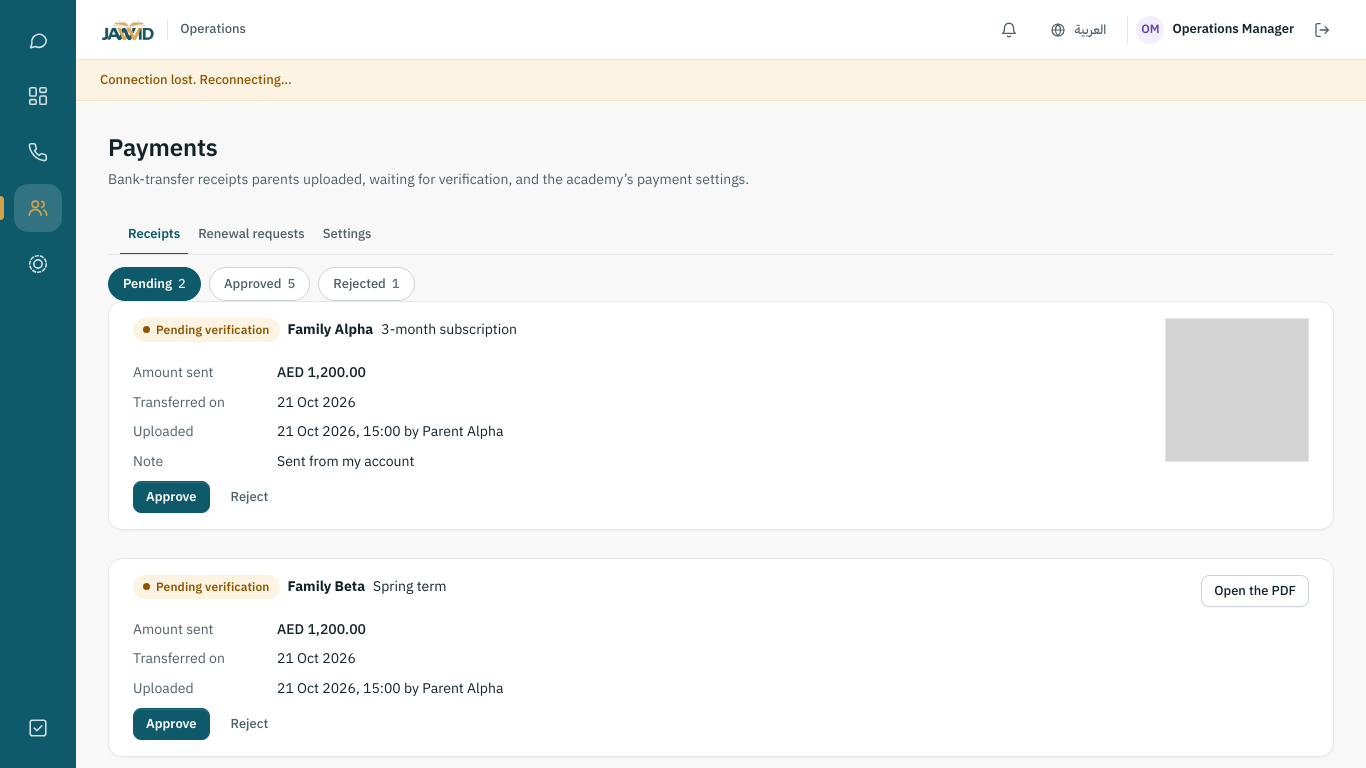
Test: Payments > Receipts › lists pending receipts with counts, the file inline (image) or as a link (PDF), and switches status
Check: the heading "Payments" is shown, box [108,130,218,166]
Check: the text "Family Alpha" is shown, box [288,319,373,341]
Click the button "Approved 5": (260,284) [209,267,310,301]
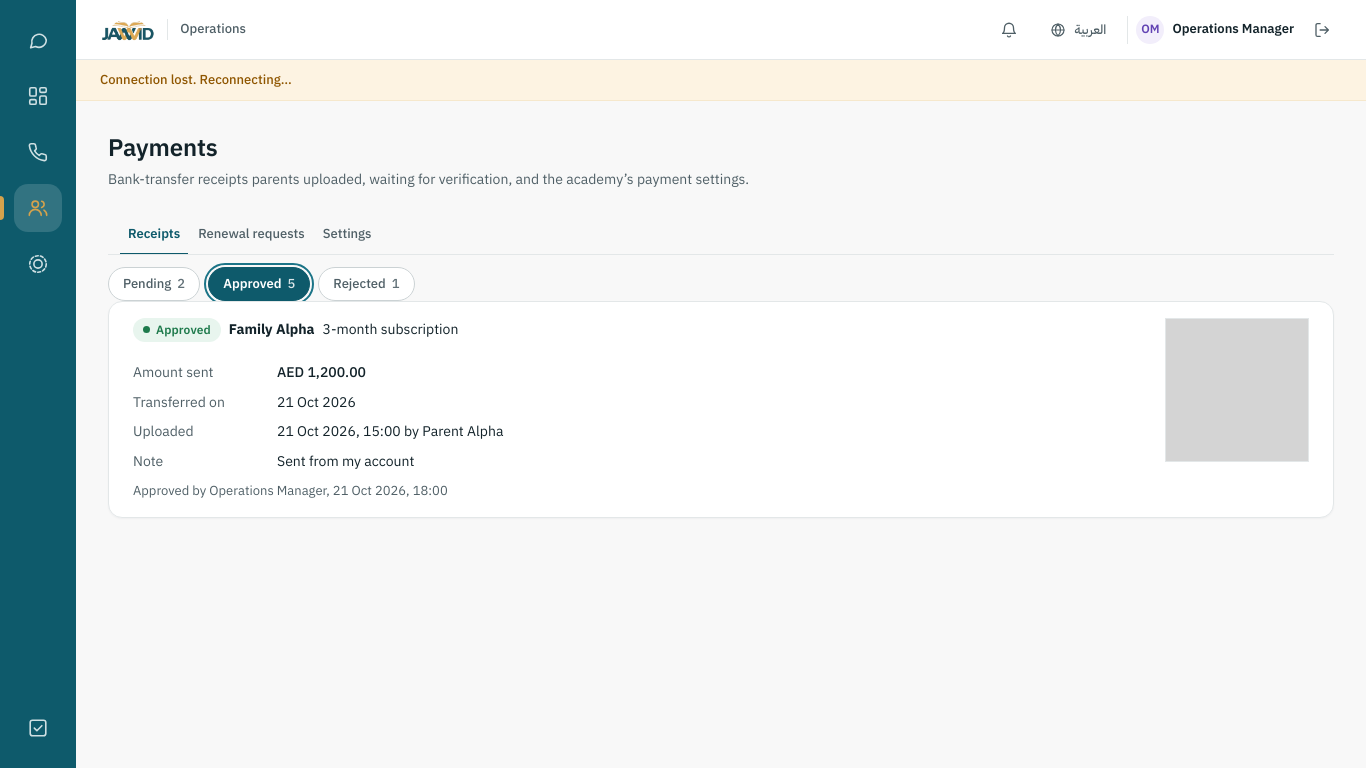
Check: the text "Approved by Operations Manager, 21 Oct 2026, 18:00" is shown, box [133,481,448,501]
